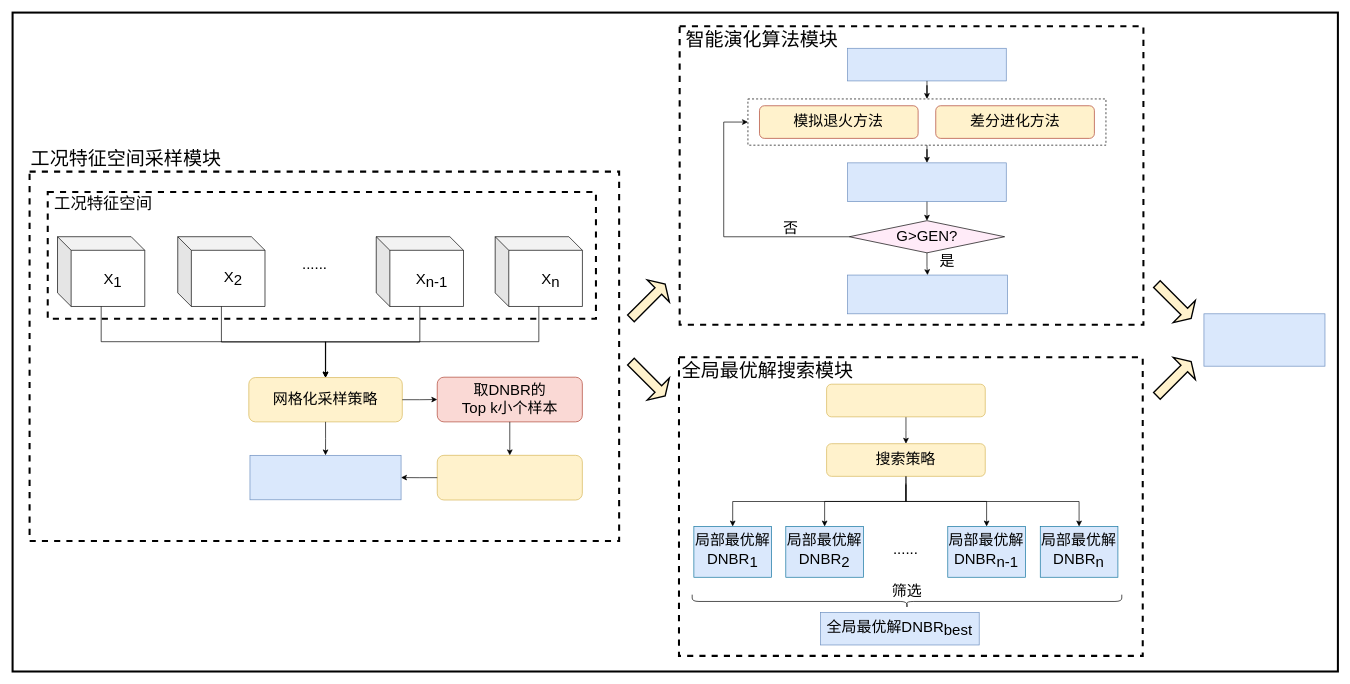
This 1350x684 diagram has some shape labels left out. Here are the shapes that lost their labels. From the top down, the centre of each, then its label:
[926,64]: 初始化样本空间G=0
[926,182]: 新的样本空间 G=G+1
[927,294]: 最小DNBR对应的样本特征空间
[1264,339]: 最终全局最优解DNBR last
[905,400]: 共轭梯度方法
[325,477]: 最终采样的样本
[509,477]: 附近样本点再采样
